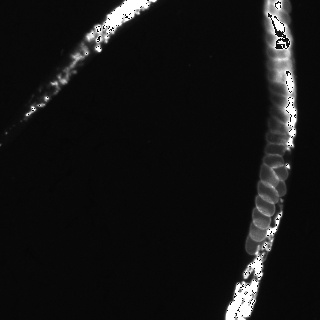embryo: (258, 162, 279, 189), (263, 3, 290, 24), (257, 179, 278, 203), (268, 169, 286, 197), (249, 217, 269, 242), (264, 32, 289, 52), (264, 19, 289, 37), (245, 233, 265, 255), (255, 195, 275, 217), (271, 93, 292, 113), (251, 207, 270, 229), (270, 107, 292, 126), (269, 80, 293, 97), (265, 129, 288, 145), (262, 153, 284, 169), (268, 59, 291, 73), (269, 71, 291, 85), (267, 47, 290, 60), (264, 143, 285, 157), (268, 116, 285, 132), (274, 164, 288, 180), (274, 180, 279, 185)
